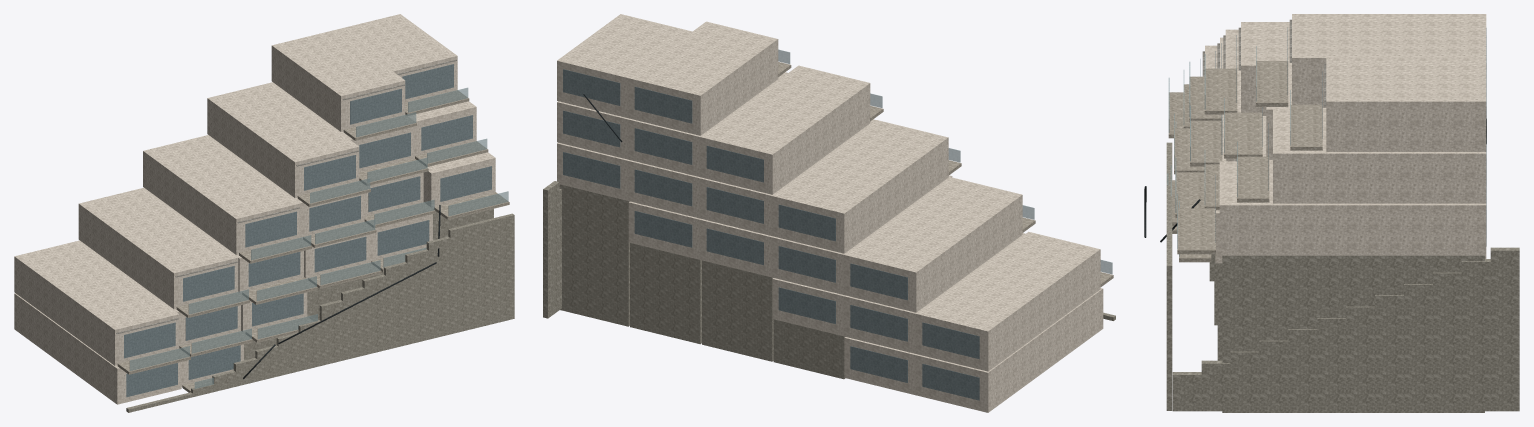
File: HIL02_hlod.glb
The picture shows the model from 3 angles, left to right: view 1: azimuth 30°, elevation 25°; view 2: azimuth 150°, elevation 25°; view 3: azimuth 270°, elevation 25°; orthographic projection. The views are drawn at different scales.
Parts seen in each view (by area): view 1: HLOD_Floor_Mass__Plaster, HLOD_Window_Bands__GlassTint, HLOD_Stone_Retaining__Stone, HLOD_Balconies__WarmConcrete, HLOD_Glass_Rail__Glass, HLOD_Foundations__Stone, HLOD_Roof_Cover__RoofGravel, HLOD_Stair_Rail__BlackMetal; view 2: HLOD_Floor_Mass__Plaster, HLOD_Rear_Glass__GlassTint, HLOD_Foundations__Stone, HLOD_East_Stone__Stone, HLOD_Glass_Rail__Glass, HLOD_Balconies__WarmConcrete; view 3: HLOD_Floor_Mass__Plaster, HLOD_East_Stone__Stone, HLOD_Balconies__WarmConcrete, HLOD_Foundations__Stone, HLOD_Stone_Retaining__Stone, HLOD_Glass_Rail__Glass, HLOD_Roof_Cover__RoofGravel, HLOD_Window_Bands__GlassTint.
Part boxes in pixels (box(x1,y1,x2,y2)): HLOD_Floor_Mass__Plaster: box(14, 14, 495, 404); HLOD_Window_Bands__GlassTint: box(124, 64, 491, 397); HLOD_Stone_Retaining__Stone: box(126, 213, 514, 412); HLOD_Balconies__WarmConcrete: box(117, 90, 509, 392); HLOD_Glass_Rail__Glass: box(129, 87, 508, 388); HLOD_Foundations__Stone: box(244, 208, 493, 360); HLOD_Roof_Cover__RoofGravel: box(116, 59, 456, 334); HLOD_Stair_Rail__BlackMetal: box(243, 205, 440, 378); HLOD_Floor_Mass__Plaster: box(557, 14, 1103, 412); HLOD_Rear_Glass__GlassTint: box(563, 69, 979, 400); HLOD_Foundations__Stone: box(559, 184, 845, 379); HLOD_East_Stone__Stone: box(543, 181, 561, 318); HLOD_Glass_Rail__Glass: box(778, 49, 1112, 273); HLOD_Balconies__WarmConcrete: box(778, 62, 1113, 286); HLOD_Floor_Mass__Plaster: box(1205, 14, 1486, 263); HLOD_East_Stone__Stone: box(1172, 247, 1519, 411); HLOD_Balconies__WarmConcrete: box(1168, 61, 1322, 262); HLOD_Foundations__Stone: box(1209, 254, 1484, 412); HLOD_Stone_Retaining__Stone: box(1166, 142, 1172, 410); HLOD_Glass_Rail__Glass: box(1167, 46, 1290, 256); HLOD_Roof_Cover__RoofGravel: box(1202, 19, 1326, 106); HLOD_Window_Bands__GlassTint: box(1200, 27, 1322, 242).
Bounding box in the file's own units: 36.03 × 19.86 × 21.67.
Materials: 7 (7 with a texture image).
